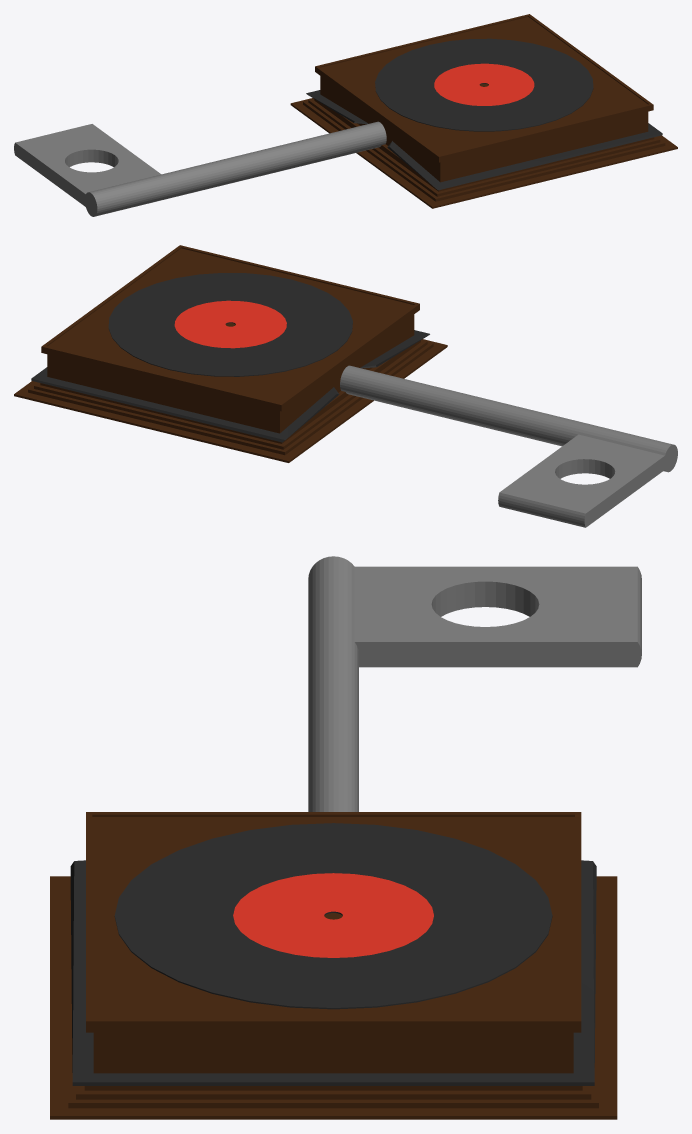
The model's file is PatephoneKey.fbx.
3 views of the same model, one above another, from view 1: azimuth 30°, elevation 25°; view 2: azimuth 150°, elevation 25°; view 3: azimuth 270°, elevation 25° (orthographic). The views are drawn at different scales.
Visible parts, largest first — view 1: Cube.003; view 2: Cube.003; view 3: Cube.003.
Part boxes in pixels (x1=…): Cube.003: x1=14, y1=14, x2=677, y2=216; Cube.003: x1=14, y1=245, x2=677, y2=527; Cube.003: x1=50, y1=556, x2=641, y2=1119.
Size of the model in its own units: 479 by 37.33 by 238.
